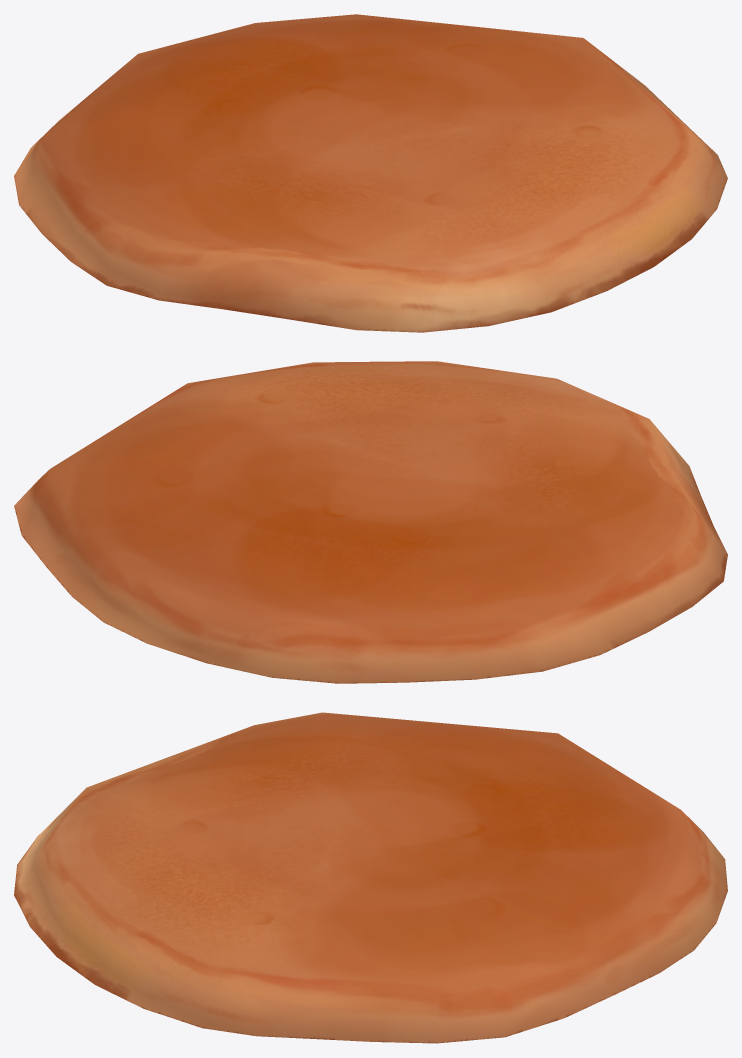
File: PanCake.glb
3 renders of one model, top to bottom at view 1: azimuth 30°, elevation 25°; view 2: azimuth 150°, elevation 25°; view 3: azimuth 270°, elevation 25°, orthographic. The views are drawn at different scales.
Parts seen in each view (by area): view 1: Object_10; view 2: Object_10; view 3: Object_10.
Part boxes in pixels (bbox=[...]): Object_10: bbox=[14, 14, 727, 332]; Object_10: bbox=[14, 361, 727, 683]; Object_10: bbox=[14, 712, 727, 1043].
Bounding box in the file's own units: 0.3137 × 0.0302 × 0.3112.
Materials: 1 (1 with a texture image).
